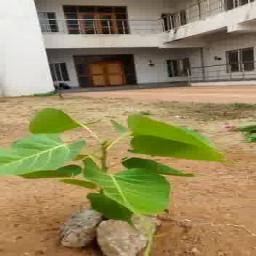LEAVS: (0, 96, 228, 216)
